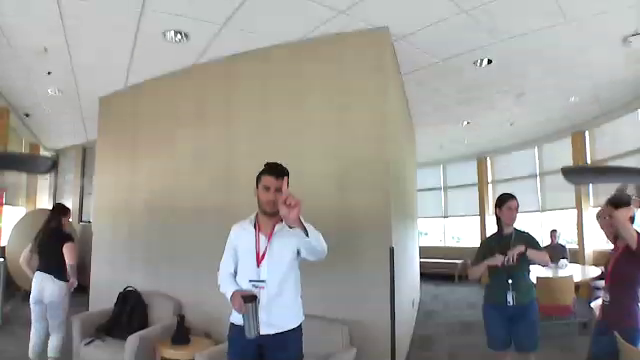up: (277, 173, 305, 224)
